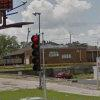Traffic light: (25, 23, 42, 76)
